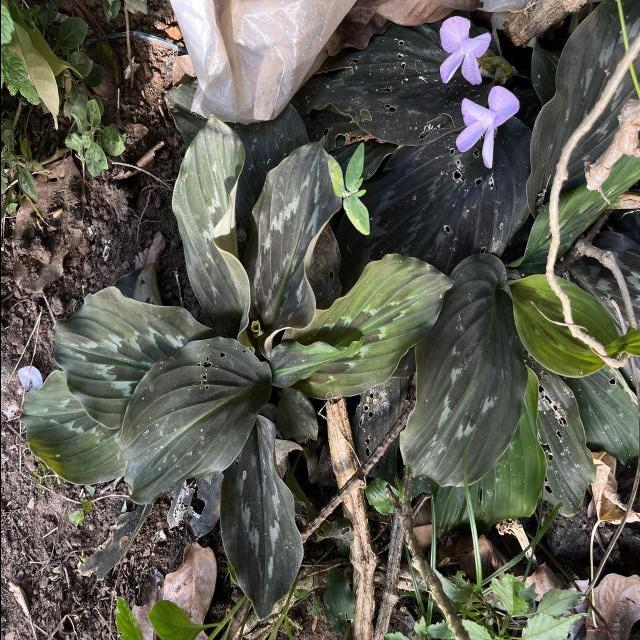Kaempferia galanga linn: (398, 252, 528, 490), (113, 334, 273, 506), (288, 250, 454, 402), (248, 131, 339, 352), (168, 110, 252, 348), (216, 411, 305, 624)
